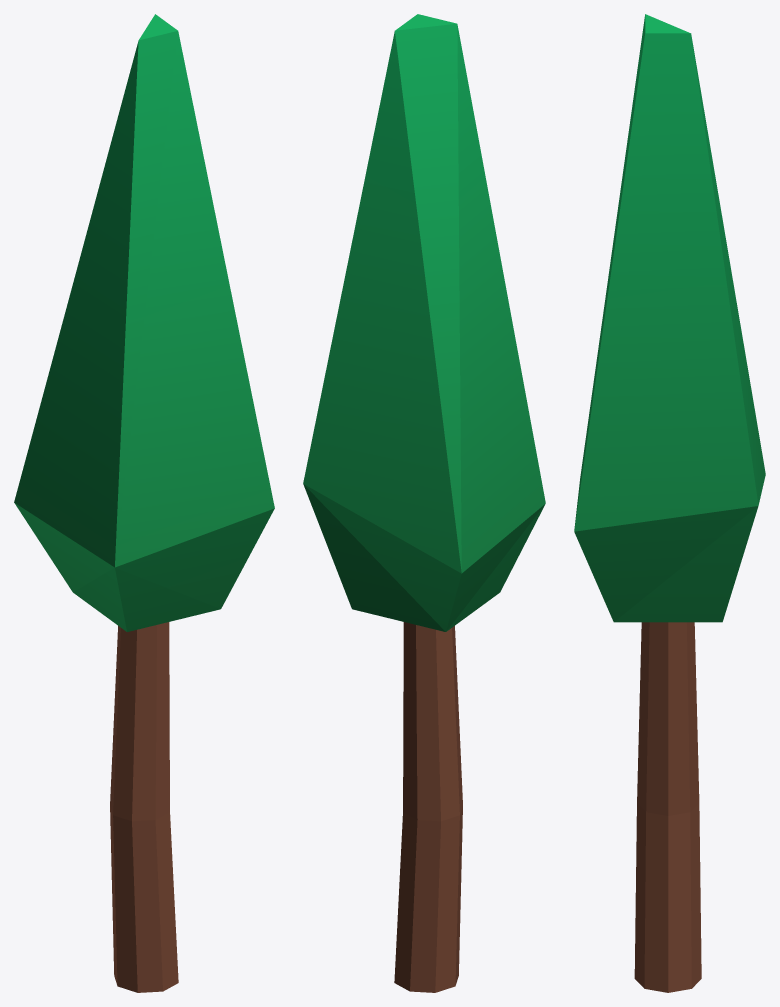
File: Tree_49_gradient_green_vc.fbx
3 views of the same model, side by side, from view 1: azimuth 30°, elevation 25°; view 2: azimuth 150°, elevation 25°; view 3: azimuth 270°, elevation 25° (orthographic).
Parts seen in each view (by area): view 1: Tree_49_gradient_green_vc; view 2: Tree_49_gradient_green_vc; view 3: Tree_49_gradient_green_vc.
Part boxes in pixels (left/top/right/bottom): Tree_49_gradient_green_vc: left=14, top=14, right=274, bottom=992; Tree_49_gradient_green_vc: left=303, top=14, right=545, bottom=992; Tree_49_gradient_green_vc: left=574, top=14, right=765, bottom=992.
Size of the model in its own units: 47.16 by 259 by 47.16.
